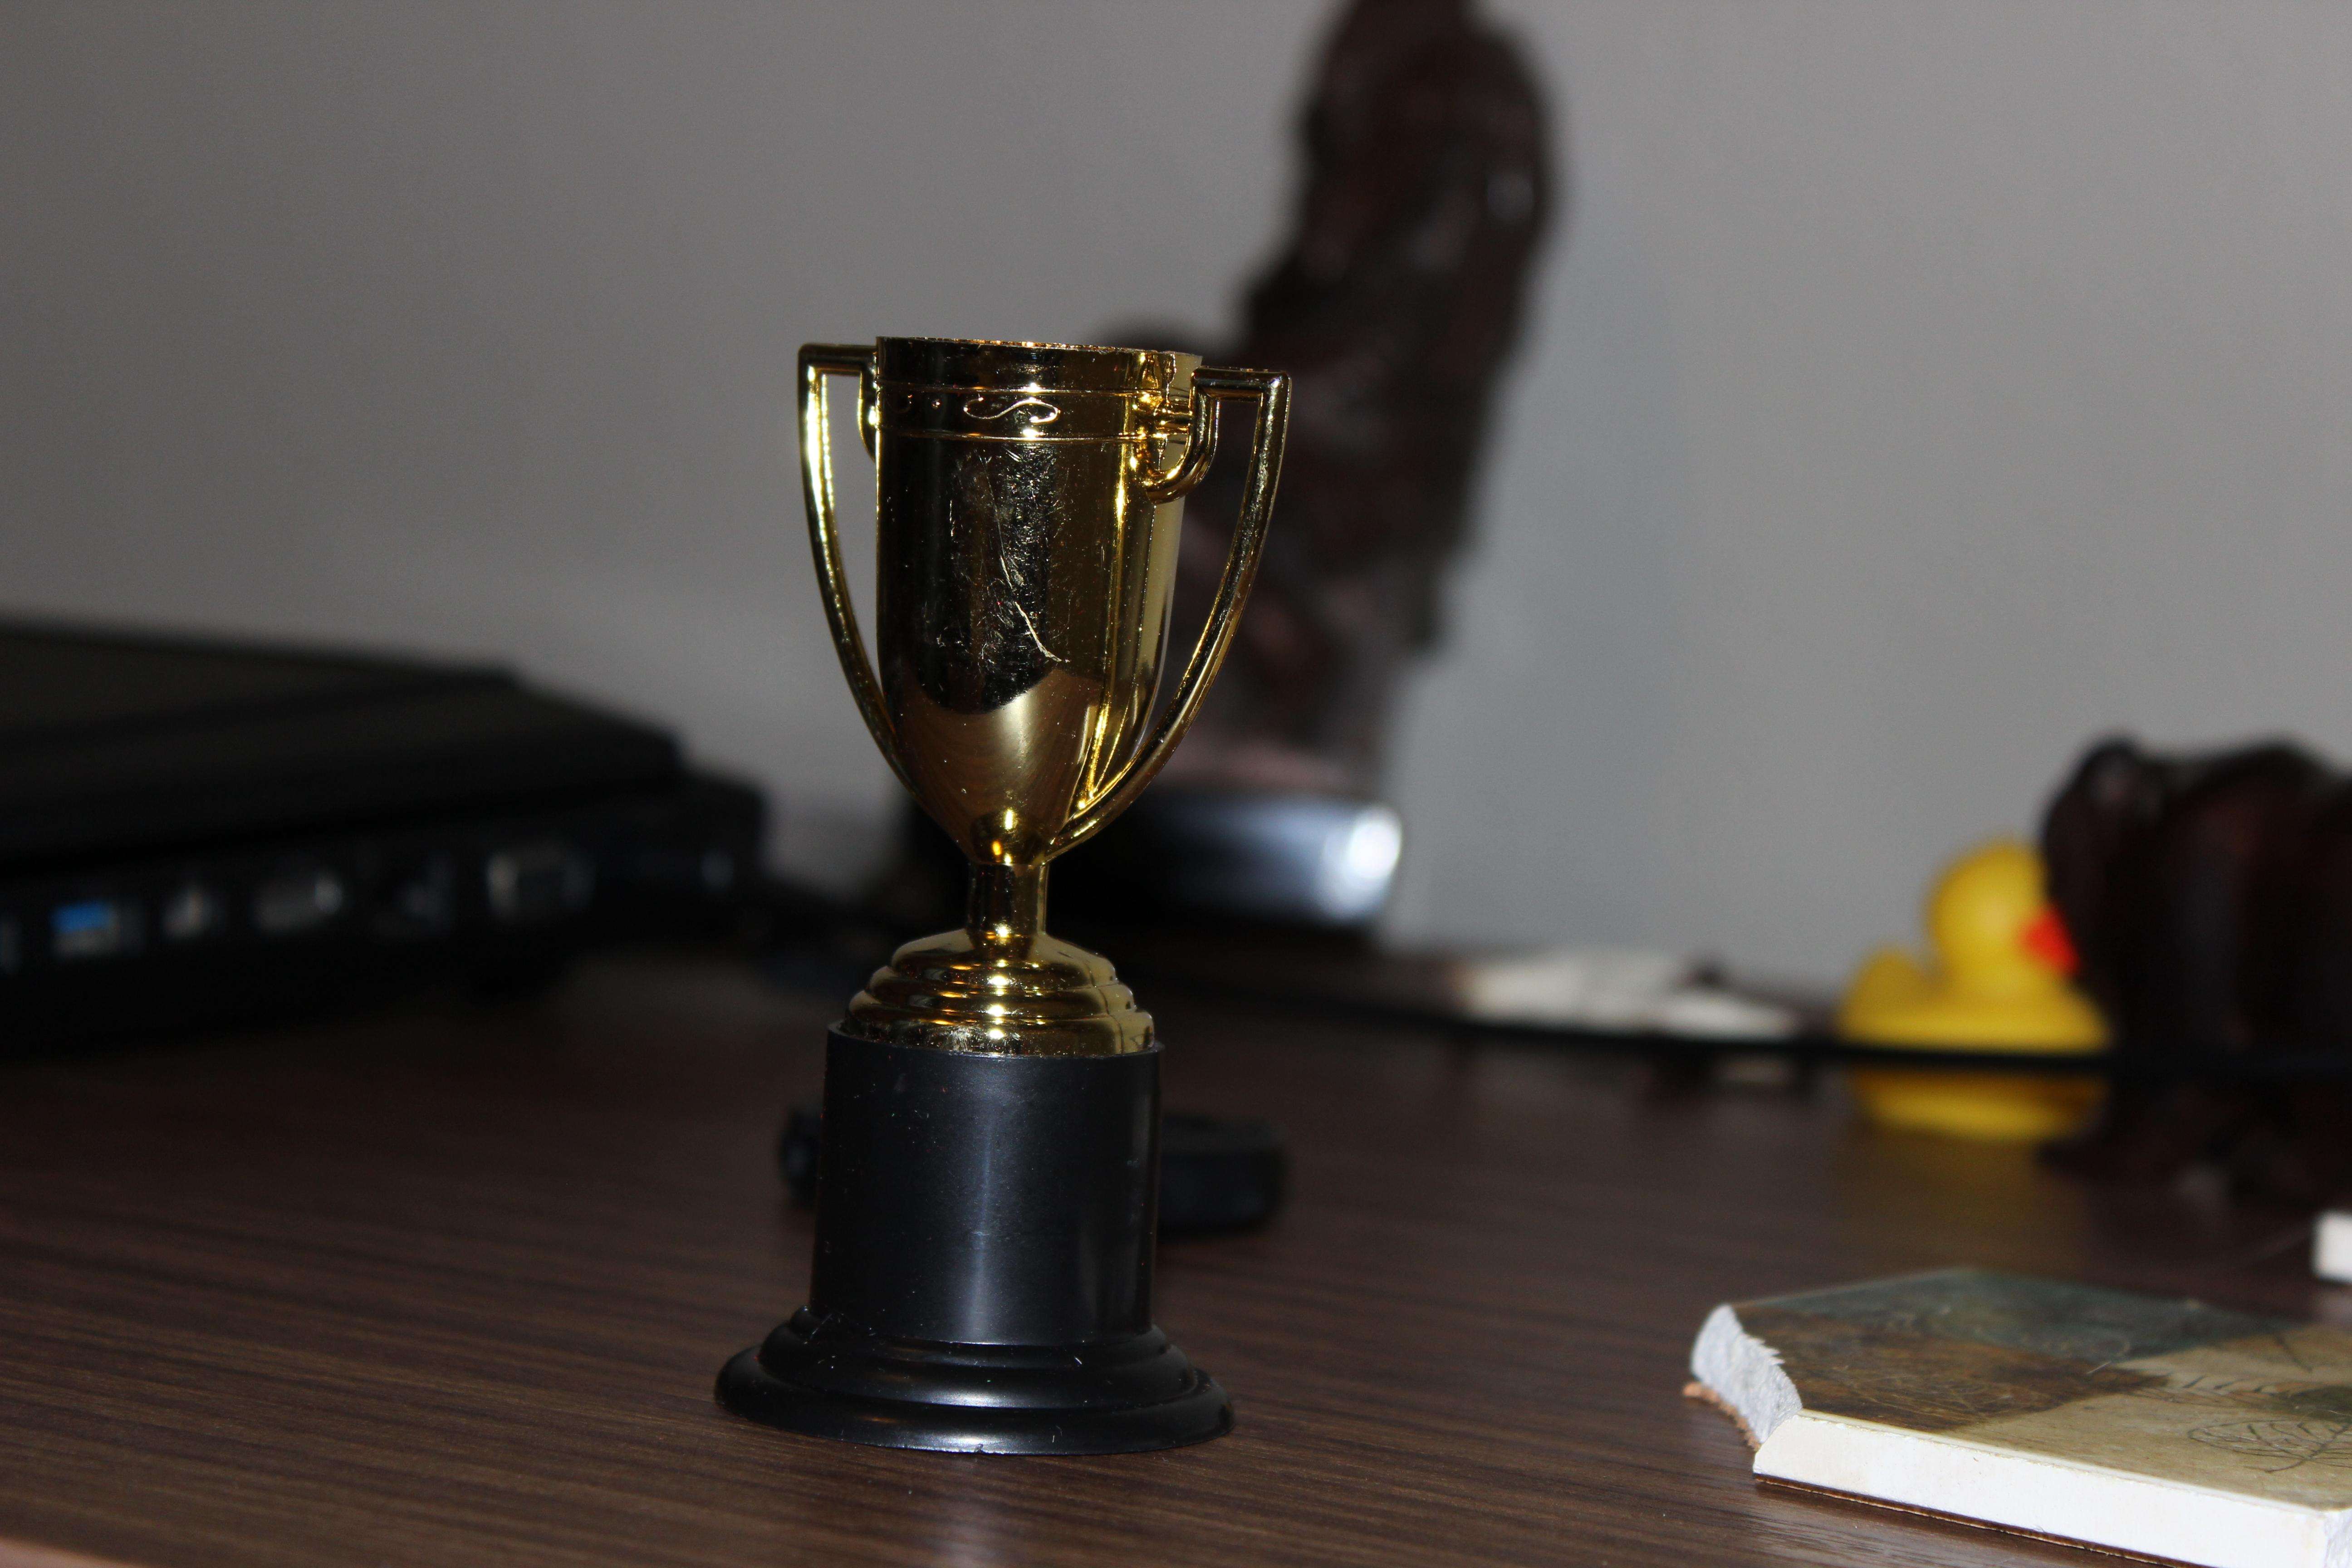trophy: (647, 301, 1354, 1479)
